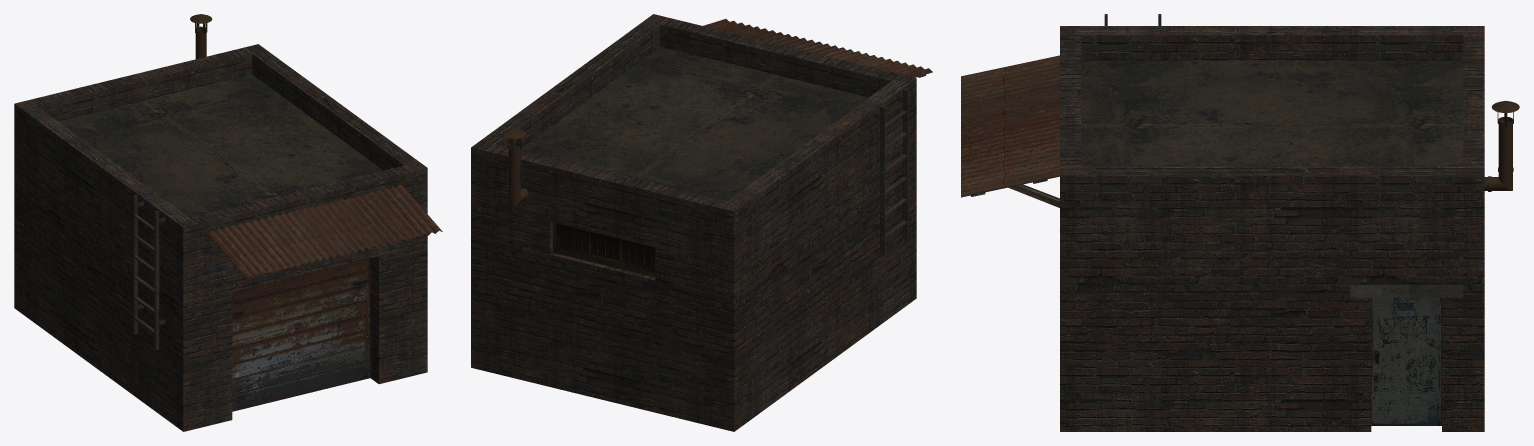
Rendered from garage_hm_2.obj.
3 renders of one model, left to right at view 1: azimuth 30°, elevation 25°; view 2: azimuth 150°, elevation 25°; view 3: azimuth 270°, elevation 25°, orthographic. The views are drawn at different scales.
Parts seen in each view (by area): view 1: garage_hm_2; view 2: garage_hm_2; view 3: garage_hm_2.
Part boxes in pixels (x1,y1,x2,y2): garage_hm_2: (14,14,442,431); garage_hm_2: (471,14,932,431); garage_hm_2: (961,14,1519,431).
Bounding box in the file's own units: 5.22 × 4.7 × 7.9.
